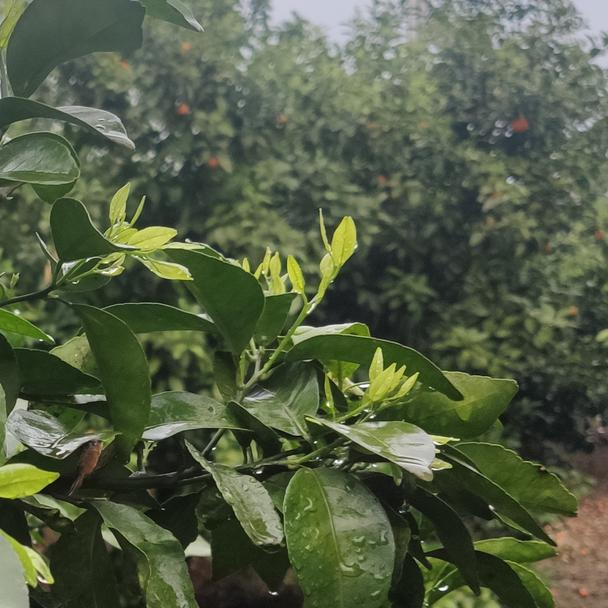shoot: (276, 220, 367, 348), (106, 191, 184, 259), (366, 351, 420, 407)
